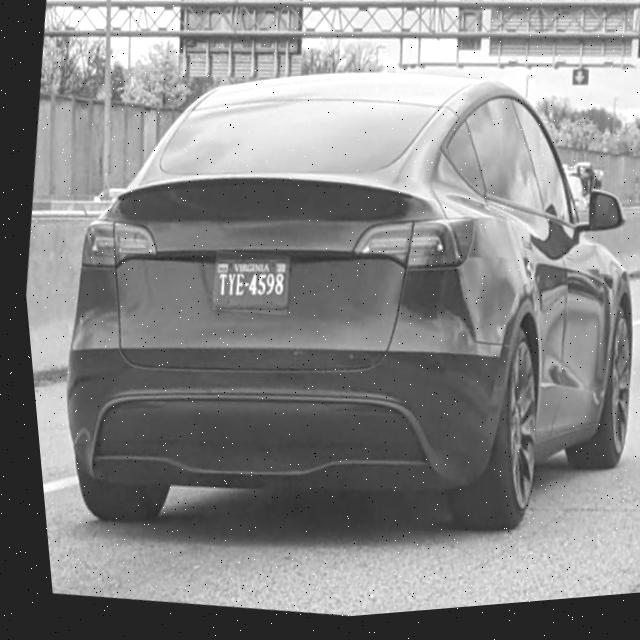LicensePlate: (206, 260, 285, 318)
